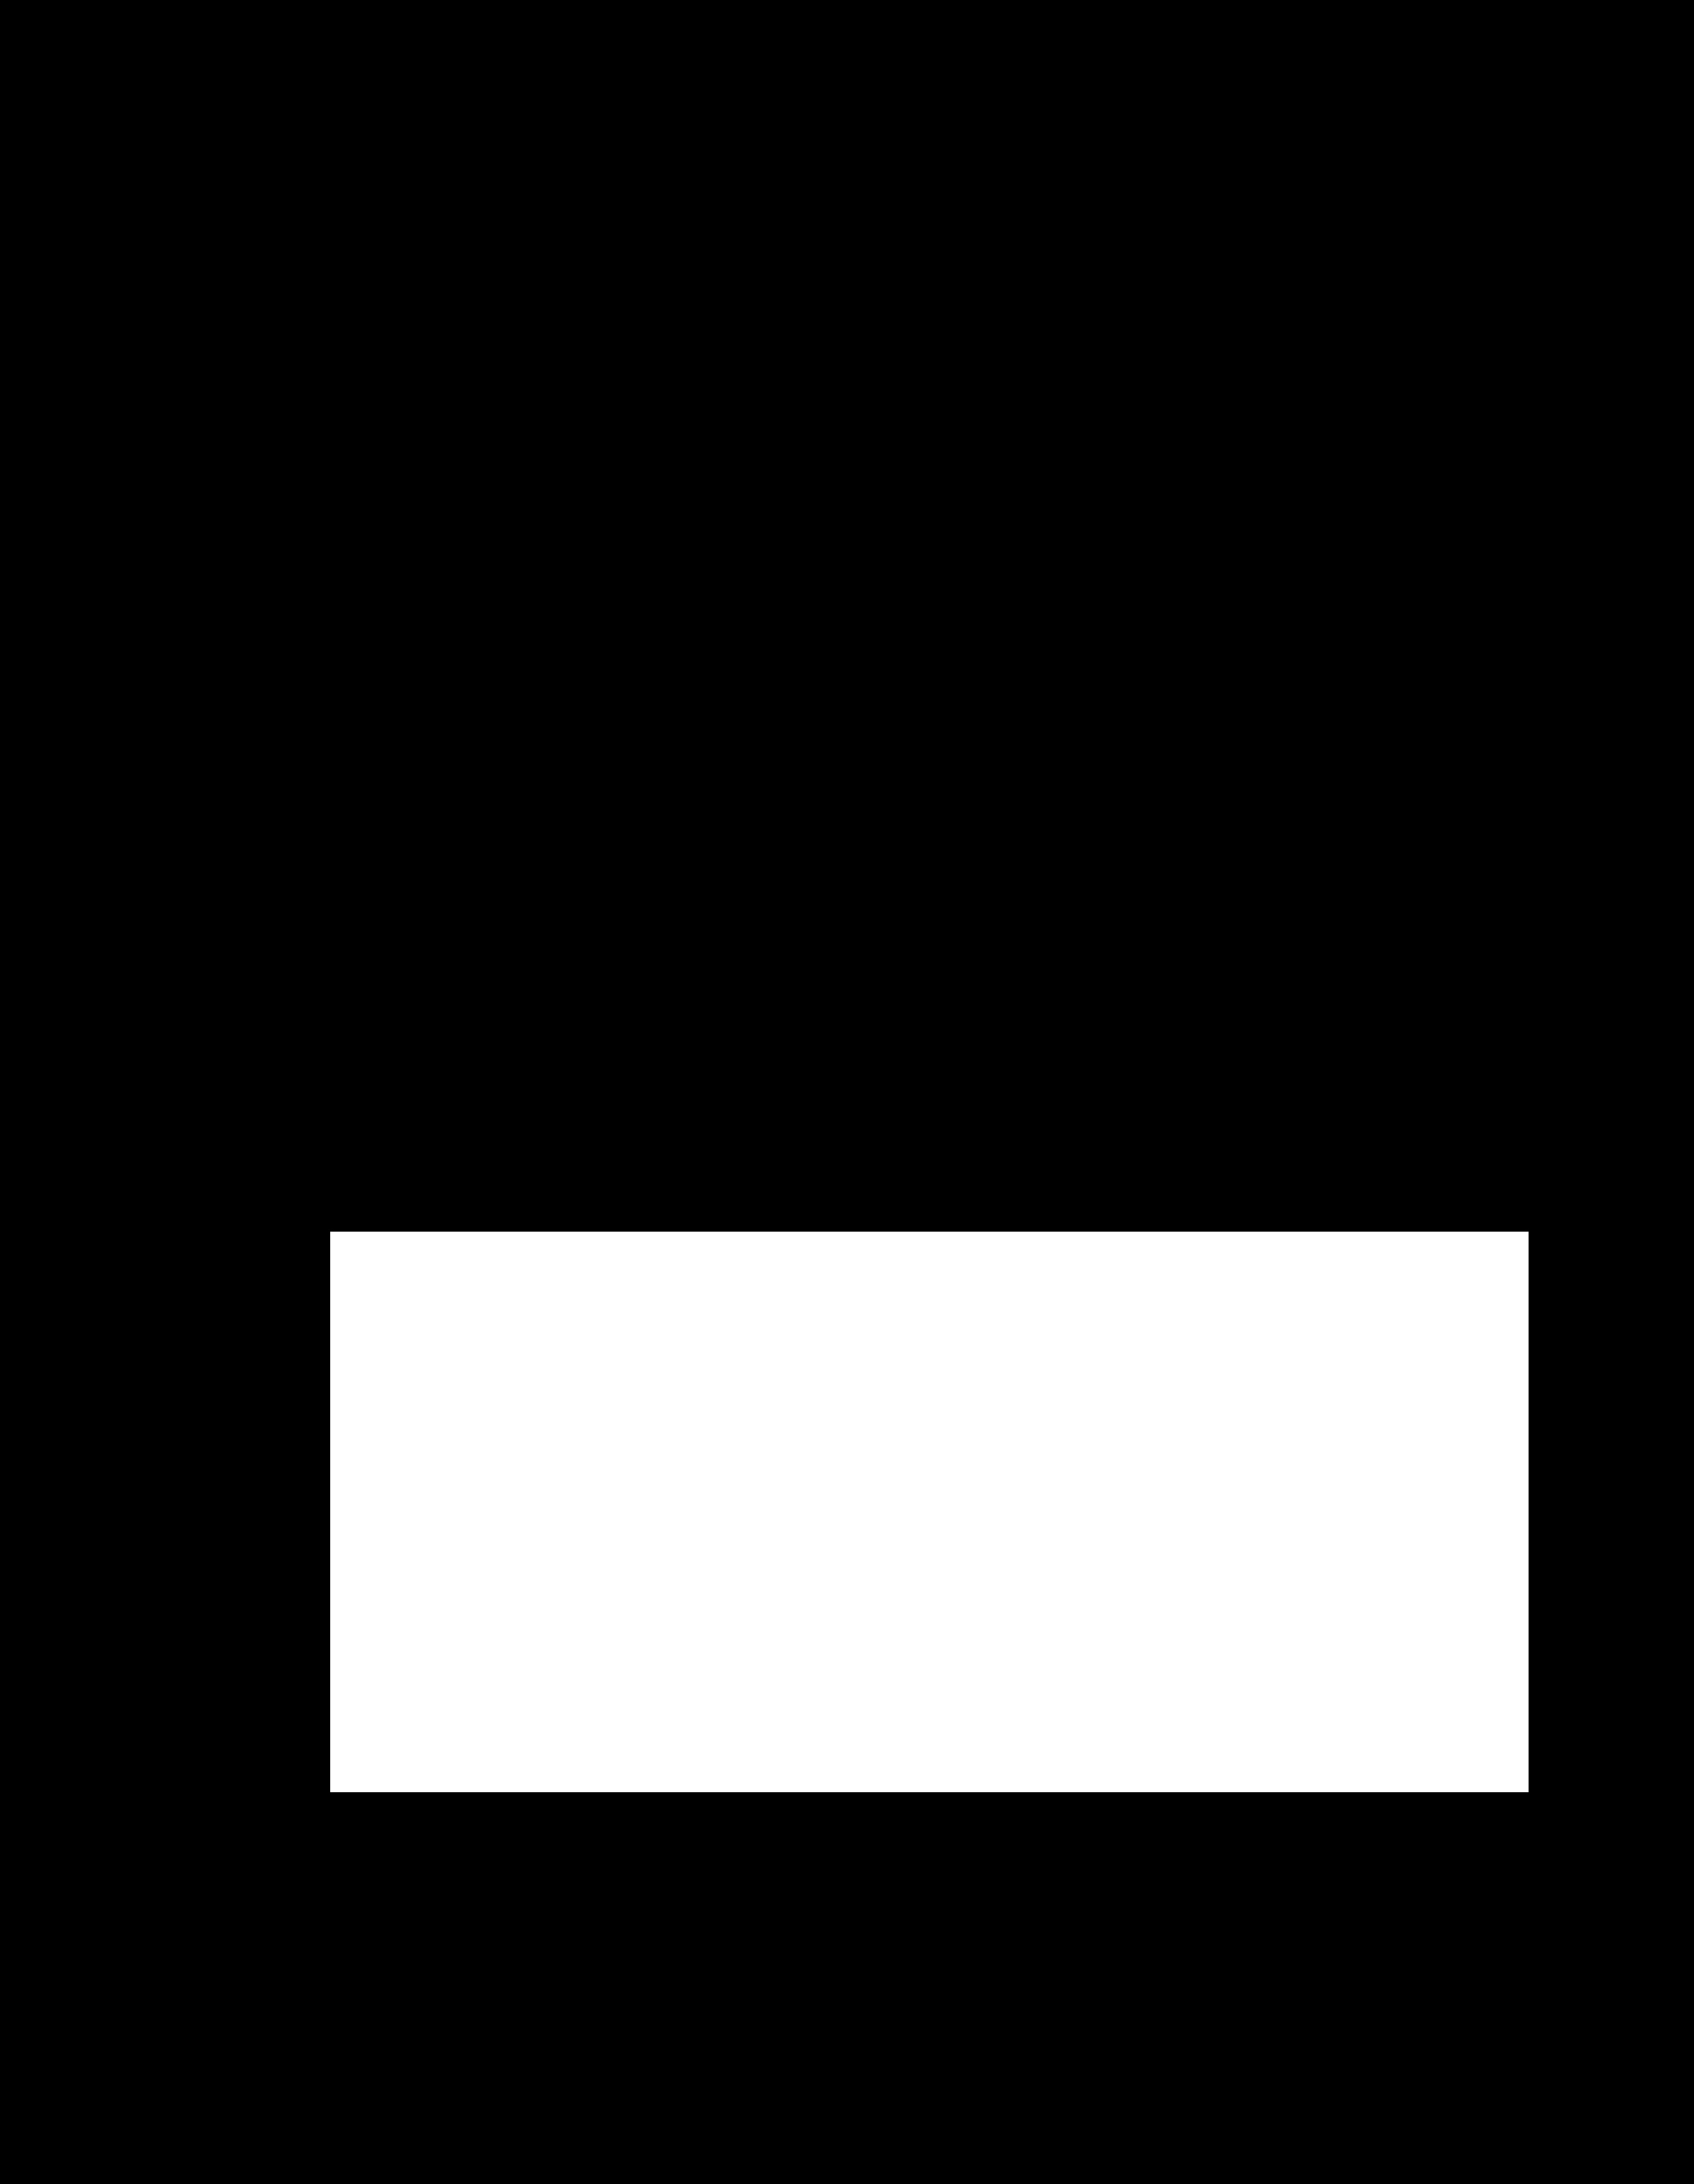table: (330, 1232, 1527, 1792)
